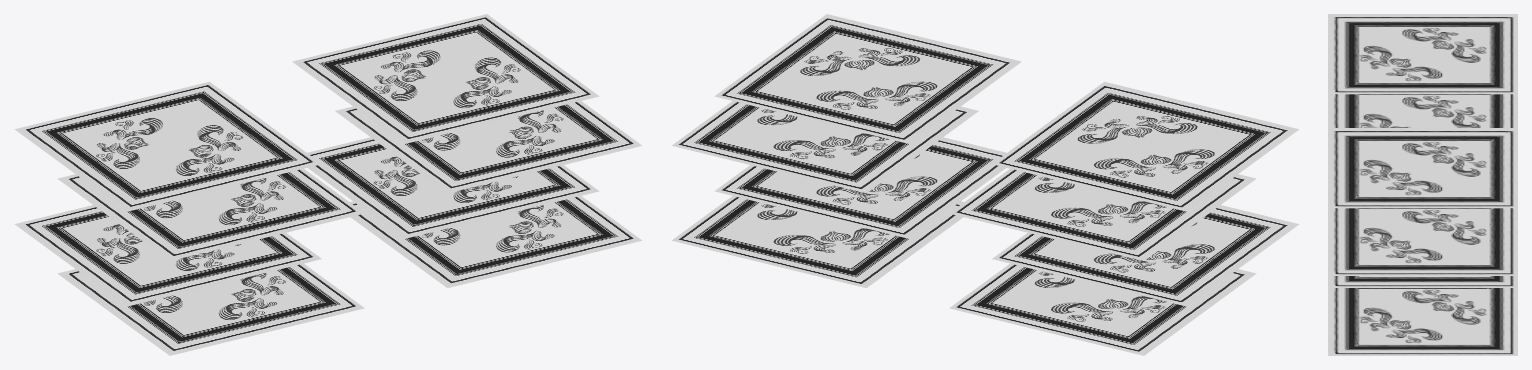
The model's file is gruppoalpha2.dae.
3 views of the same model, side by side, from view 1: azimuth 30°, elevation 25°; view 2: azimuth 150°, elevation 25°; view 3: azimuth 270°, elevation 25° (orthographic). The views are drawn at different scales.
Visible parts, largest first — view 1: fularino_01 (×8); view 2: fularino_01 (×8); view 3: fularino_01 (×6).
Boxes of the visible parts, x1,y1,x2,y2 form: fularino_01 (×8): (14,14,642,355); fularino_01 (×8): (671,14,1299,355); fularino_01 (×6): (1328,14,1517,355).
Size of the model in its own units: 1056 by 303 by 400.
1 material, 1 textured.
